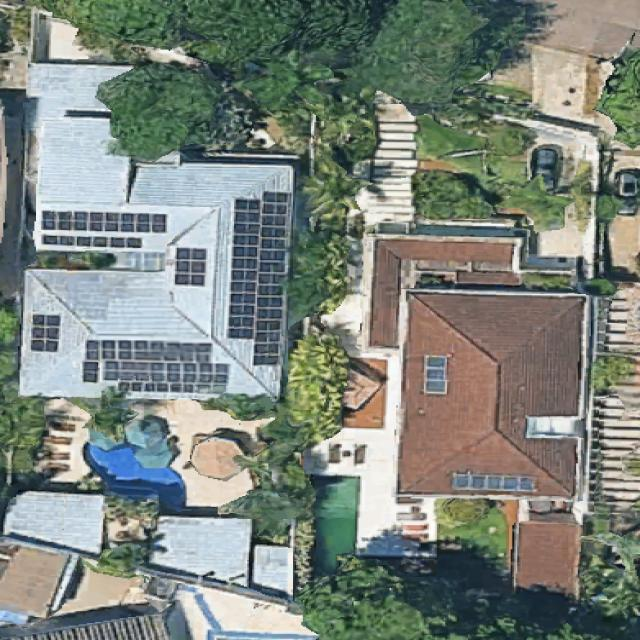painel: (228, 190, 289, 368), (82, 340, 229, 398), (43, 210, 166, 236), (447, 471, 541, 493), (44, 234, 143, 250), (173, 249, 209, 286), (33, 311, 63, 352), (422, 358, 451, 395)
